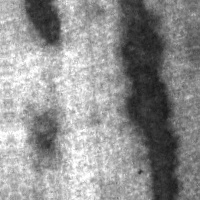patches: (115, 0, 180, 188), (21, 3, 63, 47), (27, 106, 61, 152)
